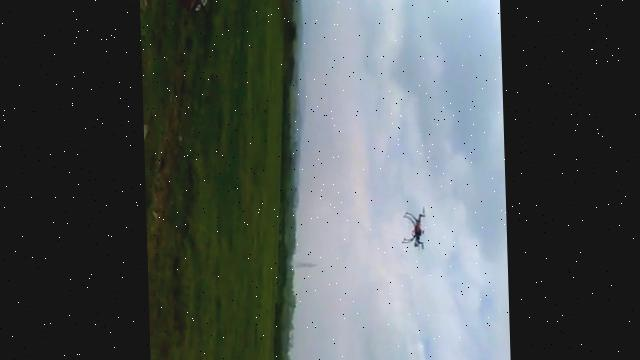drone: (400, 205, 429, 251)
